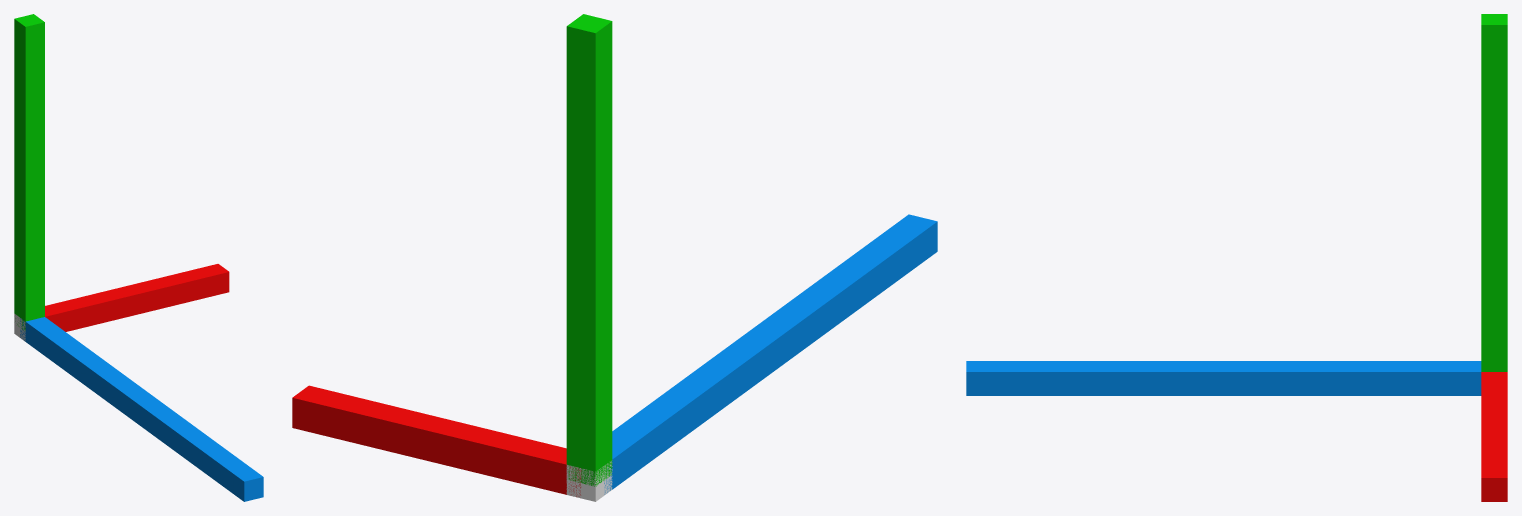
The model's file is axes_MILIMETROS_nodo_escala.glb.
3 renders of one model, left to right at view 1: azimuth 30°, elevation 25°; view 2: azimuth 150°, elevation 25°; view 3: azimuth 270°, elevation 25°, orthographic. The views are drawn at different scales.
Visible parts, largest first — view 1: Y_verde_150mm, Z_azul_200mm, X_rojo_100mm; view 2: Y_verde_150mm, Z_azul_200mm, X_rojo_100mm, origen_10mm; view 3: Z_azul_200mm, Y_verde_150mm, X_rojo_100mm.
Boxes of the visible parts, x1,y1,x2,y2 form: Y_verde_150mm: [14, 14, 44, 330]; Z_azul_200mm: [20, 317, 263, 501]; X_rojo_100mm: [45, 264, 229, 331]; Y_verde_150mm: [566, 14, 612, 486]; Z_azul_200mm: [604, 214, 937, 494]; X_rojo_100mm: [292, 385, 581, 496]; origen_10mm: [566, 461, 612, 501]; Z_azul_200mm: [966, 361, 1481, 395]; Y_verde_150mm: [1481, 14, 1507, 371]; X_rojo_100mm: [1481, 372, 1507, 501].
Bounding box in the file's own units: 0.105 × 0.155 × 0.205.
